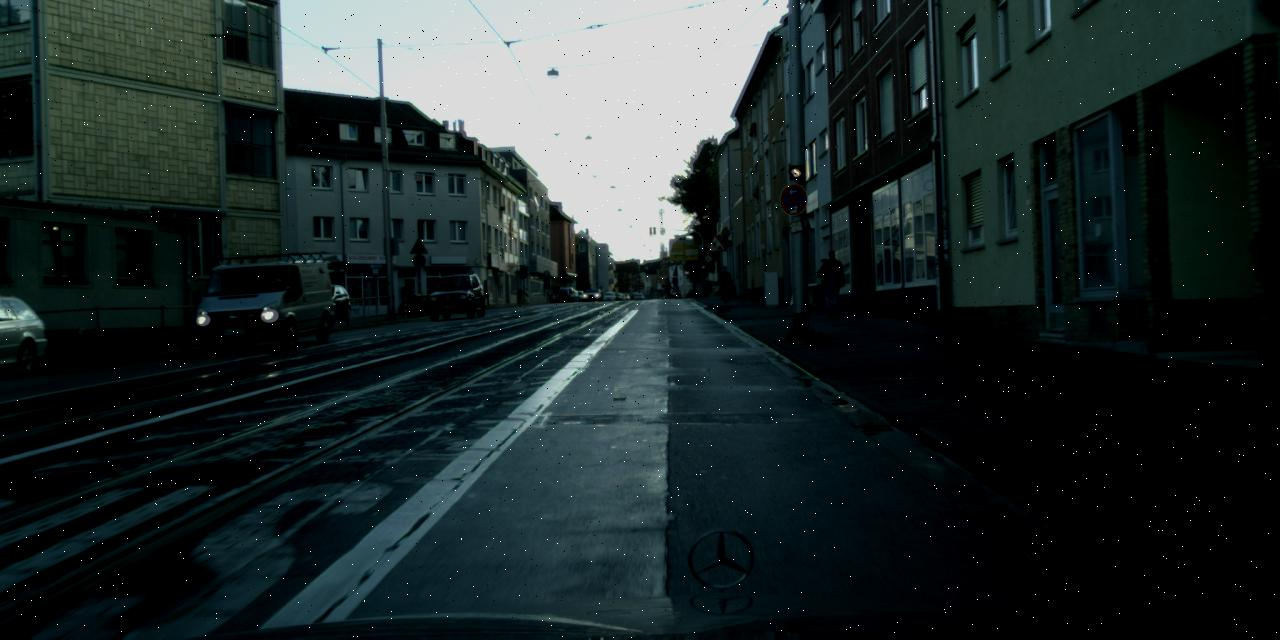ped: (818, 250, 844, 314), (717, 266, 732, 305)
